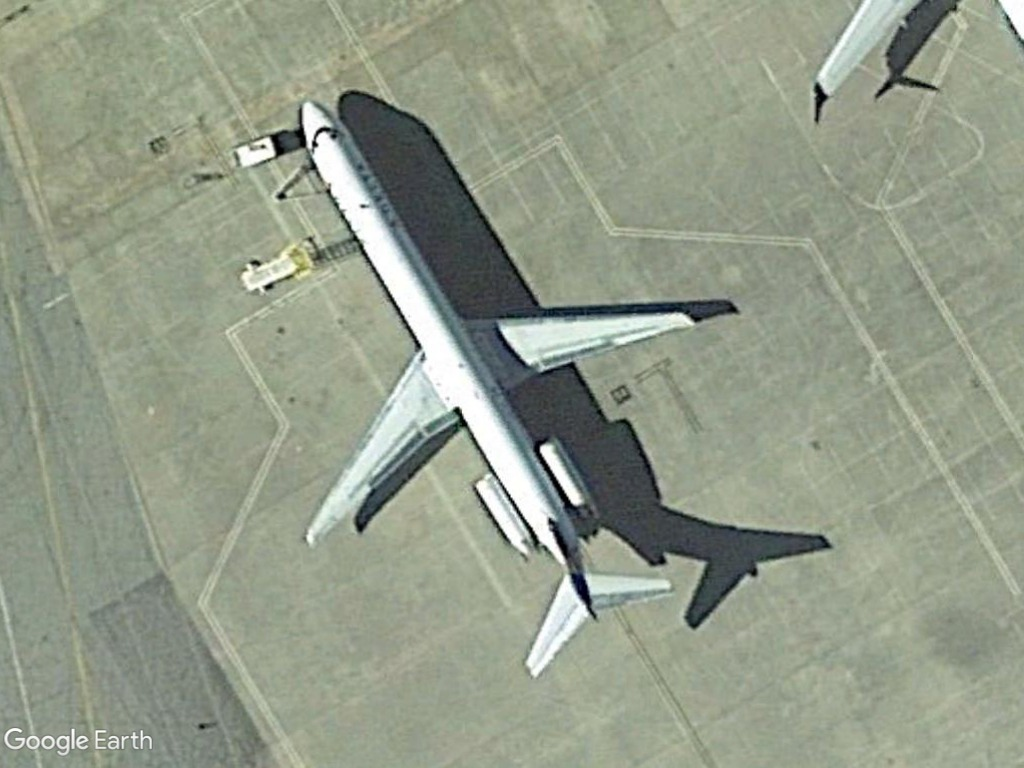chartered: (283, 93, 706, 693)
